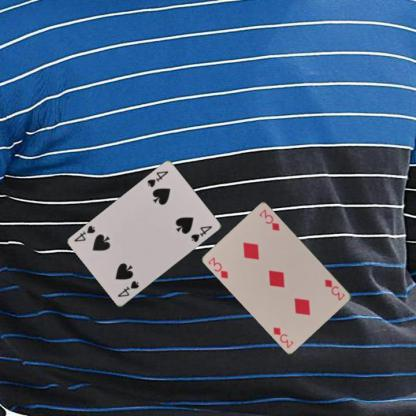3d: (322, 276, 346, 301), (206, 254, 229, 280)
4s: (144, 168, 170, 189), (115, 278, 140, 298)
